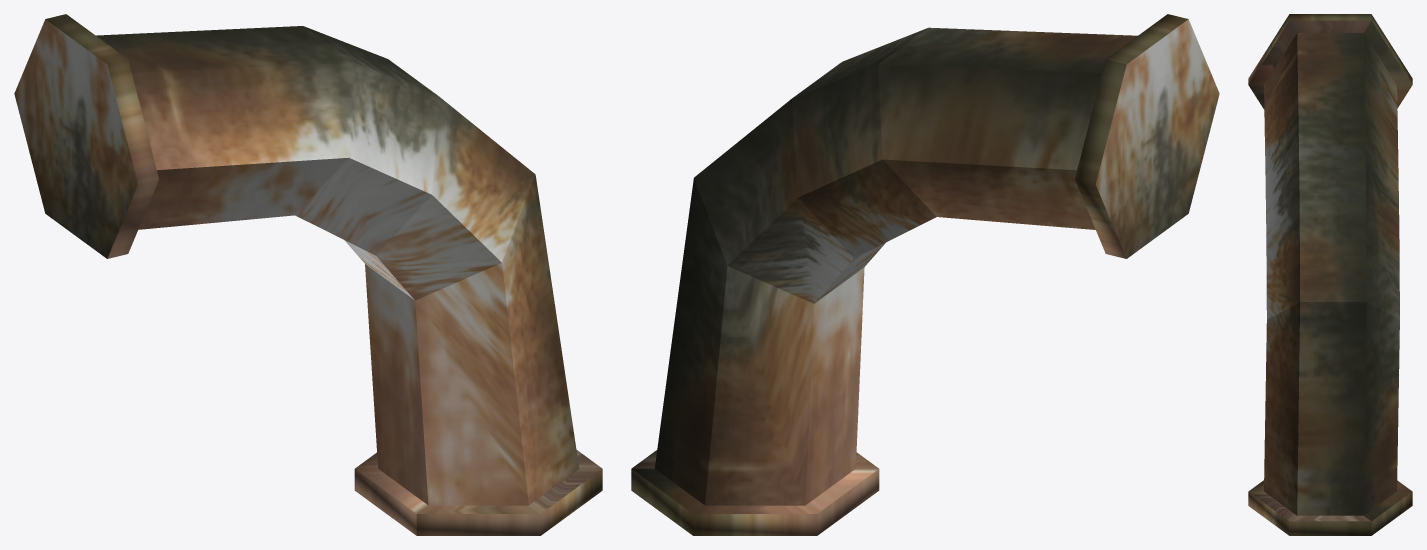
Rendered from Pipe2.fbx.
3 renders of one model, left to right at view 1: azimuth 30°, elevation 25°; view 2: azimuth 150°, elevation 25°; view 3: azimuth 270°, elevation 25°, orthographic. The views are drawn at different scales.
Visible parts, largest first — view 1: CurveBigClosed; view 2: CurveBigClosed; view 3: CurveBigClosed.
Boxes of the visible parts, x1,y1,x2,y2 form: CurveBigClosed: (14, 14, 602, 535); CurveBigClosed: (631, 14, 1219, 535); CurveBigClosed: (1248, 14, 1412, 535).
Bounding box in the file's own units: 569 × 600 × 247.
